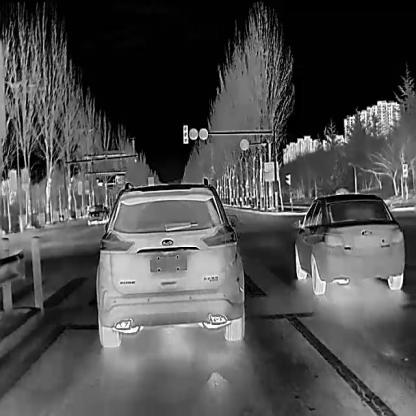car: (94, 174, 244, 347), (293, 190, 405, 295), (86, 202, 109, 225)
